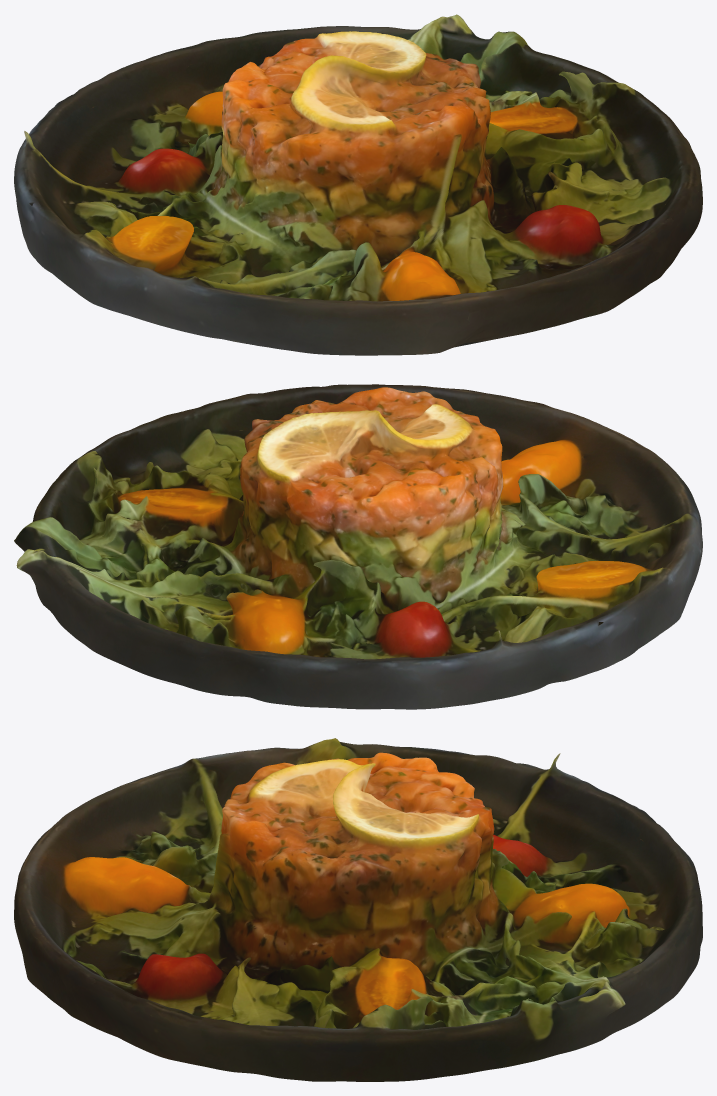
Rendered from tartare_saumon.glb.
The picture shows the model from 3 angles, top to bottom: view 1: azimuth 30°, elevation 25°; view 2: azimuth 150°, elevation 25°; view 3: azimuth 270°, elevation 25°; orthographic projection. The views are drawn at different scales.
Visible parts, largest first — view 1: defaultGroup0; view 2: defaultGroup0; view 3: defaultGroup0.
Boxes of the visible parts, <box> form: defaultGroup0: <box>14,14,702,355</box>; defaultGroup0: <box>14,384,702,709</box>; defaultGroup0: <box>14,738,702,1081</box>.
Bounding box in the file's own units: 0.2122 × 0.0551 × 0.2119.
Materials: 2 (1 with a texture image).
